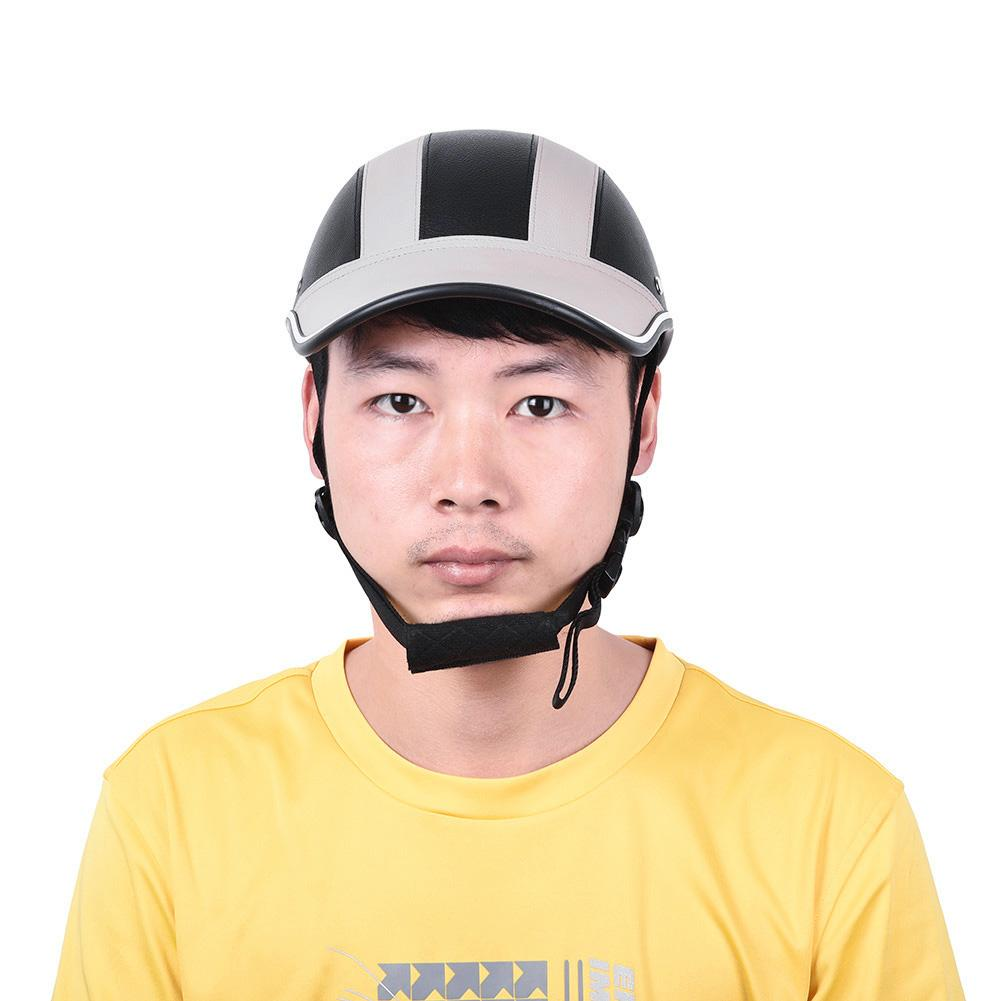Helmet: (275, 119, 684, 386)
